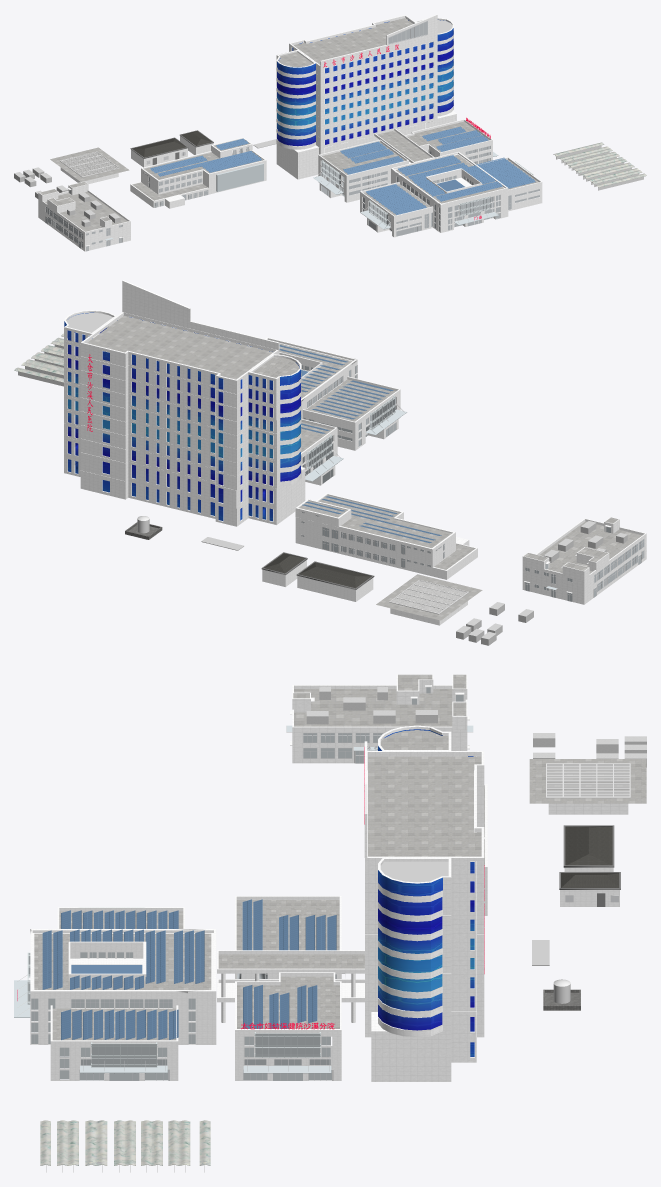
The model's file is 其他模型.glb.
3 renders of one model, top to bottom at view 1: azimuth 30°, elevation 25°; view 2: azimuth 150°, elevation 25°; view 3: azimuth 270°, elevation 25°, orthographic. The views are drawn at different scales.
Visible parts, largest first — view 1: 244, move_03, 005, 270, Object, 097, 058.001, Plane.012, Box013, 261, Rectangle078, 076 (+30 smaller); view 2: 244, move_03, 270, 005, Plane.012, 266, 274, 261, ͼ031, 034, 026, Box013 (+20 smaller); view 3: 244, 270, 005, move_03, Object, 261, Plane.012, 097, 276, ͼ031, 273, Rectangle082 (+35 smaller).
Part boxes in pixels (left/top/right/bottom): 244: left=276, top=14, right=456, bottom=179; move_03: left=277, top=20, right=453, bottom=146; 005: left=360, top=151, right=542, bottom=237; 270: left=294, top=18, right=412, bottom=64; Object: left=553, top=142, right=646, bottom=187; 097: left=363, top=175, right=539, bottom=236; 058.001: left=318, top=139, right=408, bottom=202; Plane.012: left=50, top=147, right=129, bottom=181; Box013: left=130, top=150, right=266, bottom=207; 261: left=45, top=191, right=127, bottom=231; Rectangle078: left=366, top=184, right=426, bottom=214; 076: left=405, top=119, right=492, bottom=163; 244: left=64, top=280, right=305, bottom=526; move_03: left=64, top=312, right=300, bottom=521; 270: left=87, top=316, right=273, bottom=379; 005: left=265, top=337, right=400, bottom=450; Plane.012: left=376, top=574, right=482, bottom=620; 266: left=319, top=495, right=451, bottom=548; 274: left=306, top=379, right=395, bottom=421; 261: left=539, top=521, right=641, bottom=573; ͼ031: left=389, top=580, right=469, bottom=614; 034: left=522, top=566, right=584, bottom=604; 026: left=339, top=527, right=396, bottom=567; Box013: left=316, top=493, right=477, bottom=579; 244: left=364, top=725, right=484, bottom=1081; 270: left=368, top=756, right=481, bottom=856; 005: left=30, top=907, right=216, bottom=1080; move_03: left=378, top=729, right=474, bottom=1056; Object: left=40, top=1120, right=210, bottom=1165; 261: left=294, top=689, right=452, bottom=726; Plane.012: left=529, top=759, right=646, bottom=803; 097: left=31, top=952, right=195, bottom=1080; 276: left=34, top=933, right=211, bottom=989; ͼ031: left=546, top=763, right=630, bottom=798; 273: left=237, top=976, right=339, bottom=1028; Rectangle082: left=61, top=1009, right=178, bottom=1039.
Bounding box in the file's own units: 51.39 × 13.26 × 30.36.
Materials: 16 (7 with a texture image).
